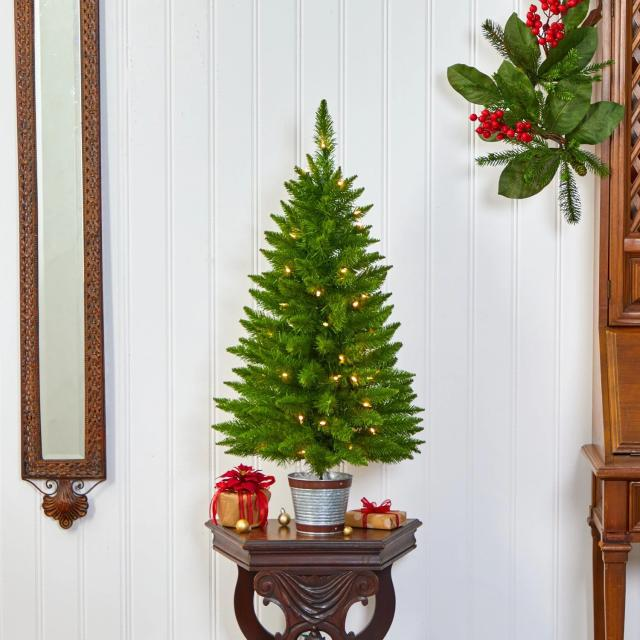Christmas-tree: (207, 92, 433, 464)
